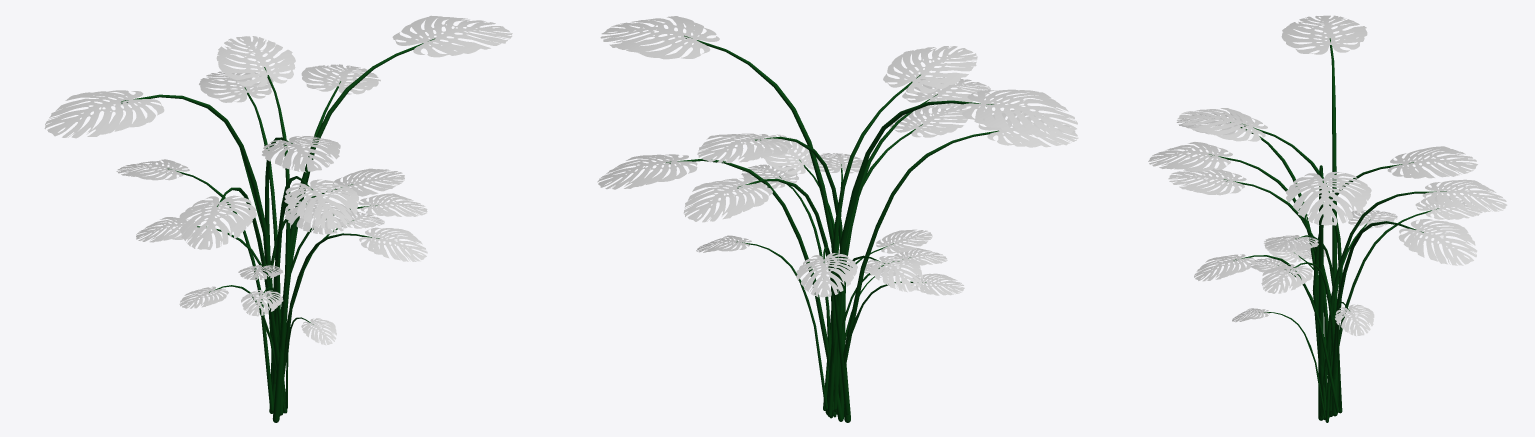
The model's file is Amazonie_Fougere_1.fbx.
The picture shows the model from 3 angles, left to right: view 1: azimuth 30°, elevation 25°; view 2: azimuth 150°, elevation 25°; view 3: azimuth 270°, elevation 25°; orthographic projection. The views are drawn at different scales.
Visible parts, largest first — view 1: Plane.035, Plane; view 2: Plane.035, Plane; view 3: Plane.035, Plane.
Part boxes in pixels (<box>): Plane.035: <box>44,15,512,345</box>; Plane: <box>121,38,435,422</box>; Plane.035: <box>597,16,1078,297</box>; Plane: <box>666,35,998,422</box>; Plane.035: <box>1148,15,1507,336</box>; Plane: <box>1209,38,1446,422</box>.
Size of the model in its own units: 615 by 438 by 480.
